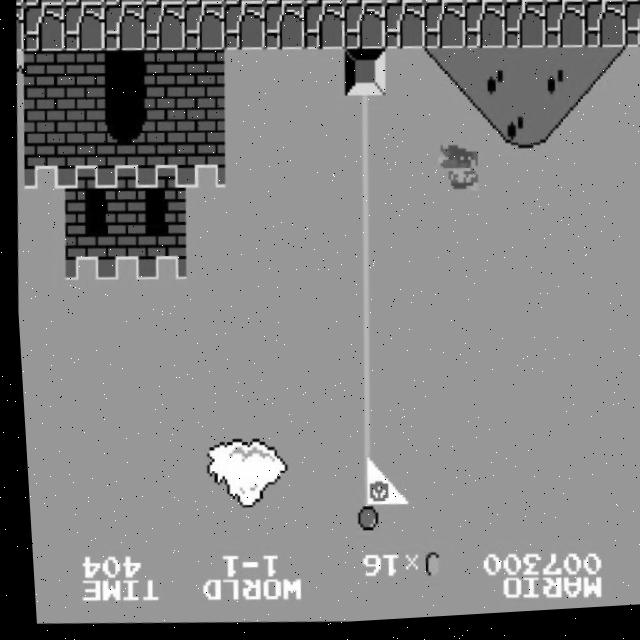1- brick_block: (61, 50, 106, 100)
11- little_mario: (433, 149, 481, 202)
17- undestructible_block: (501, 6, 547, 56), (461, 6, 507, 56), (421, 6, 467, 56), (301, 5, 347, 55), (261, 5, 307, 55), (221, 5, 267, 55), (21, 4, 67, 54), (582, 7, 627, 57), (542, 7, 587, 57), (382, 6, 427, 56), (342, 6, 387, 56), (181, 5, 226, 55), (141, 4, 186, 54), (101, 4, 146, 54), (61, 4, 106, 54), (623, 8, 640, 57), (14, 5, 25, 52), (583, 0, 626, 11), (543, 0, 586, 11), (503, 0, 546, 11), (463, 0, 506, 10), (423, 0, 466, 10), (383, 0, 426, 10), (343, 0, 386, 10), (302, 0, 345, 10), (262, 0, 305, 9), (223, 0, 266, 9), (183, 0, 226, 8), (143, 0, 186, 8), (103, 0, 146, 8), (63, 0, 106, 8), (23, 0, 65, 8), (624, 0, 640, 11), (16, 0, 24, 6)
7- goal_pole: (338, 509, 384, 559), (339, 326, 385, 376), (340, 143, 386, 192), (339, 463, 384, 513), (340, 280, 385, 330), (341, 189, 386, 239), (341, 97, 386, 147), (339, 418, 384, 467), (339, 373, 384, 422), (340, 235, 385, 284)
9- hard_block: (341, 52, 386, 102)
